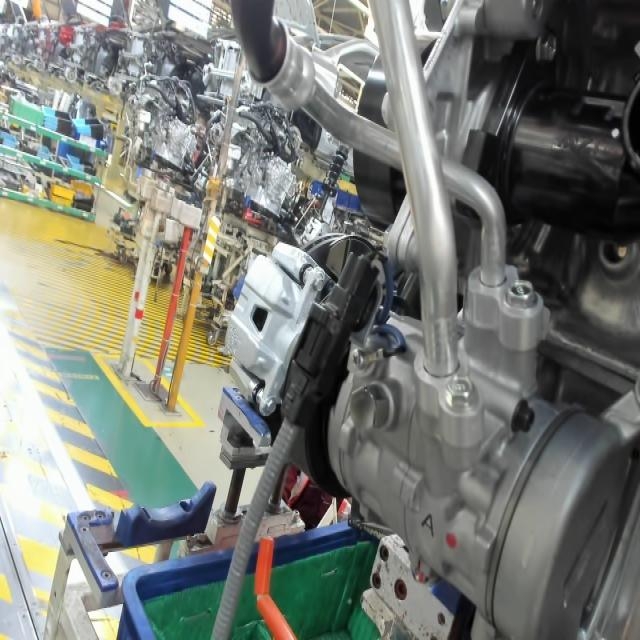Compressor-A: (413, 502, 439, 542)
